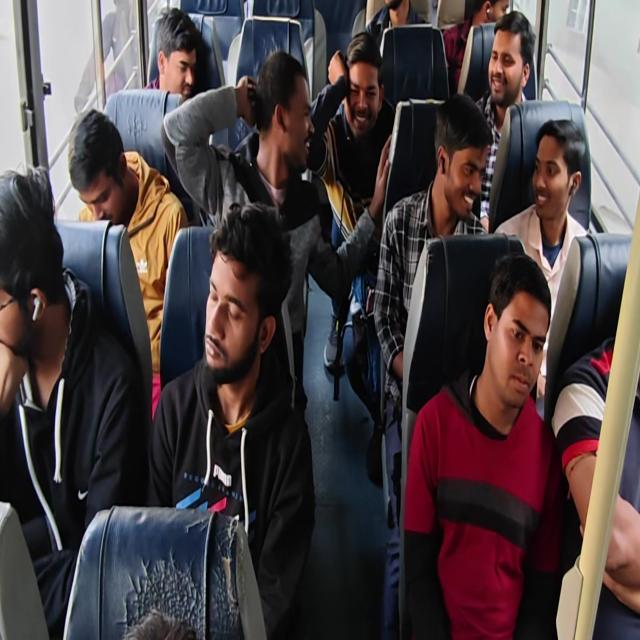person: (0, 160, 68, 378), (480, 273, 550, 435), (200, 228, 258, 372), (68, 110, 134, 224), (255, 58, 312, 169), (526, 128, 584, 222), (440, 120, 482, 222), (335, 57, 379, 135), (153, 32, 196, 96), (492, 22, 524, 102), (468, 0, 512, 32), (375, 0, 411, 18)
